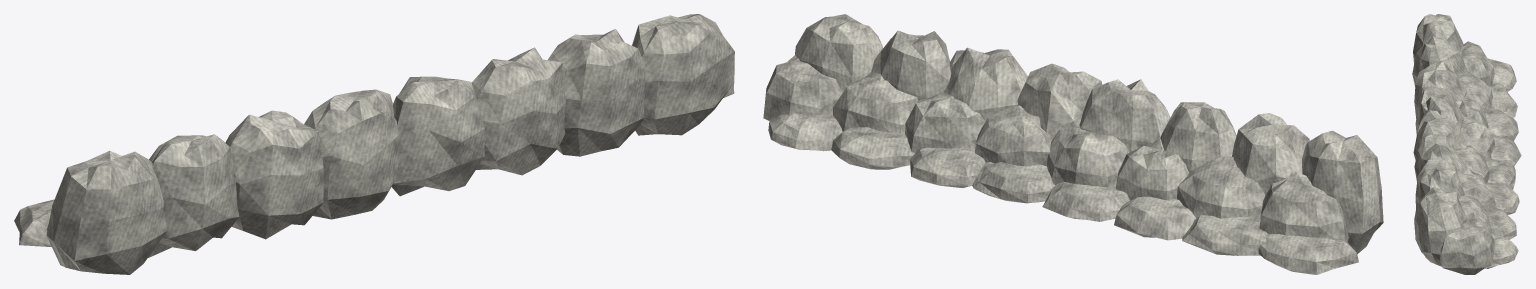
The model's file is valley-stone-revetment.obj.
3 views of the same model, side by side, from view 1: azimuth 30°, elevation 25°; view 2: azimuth 150°, elevation 25°; view 3: azimuth 270°, elevation 25° (orthographic). The views are drawn at different scales.
Size of the model in its own units: 6.19 by 1.02 by 1.37.
4 materials, 4 textured.
